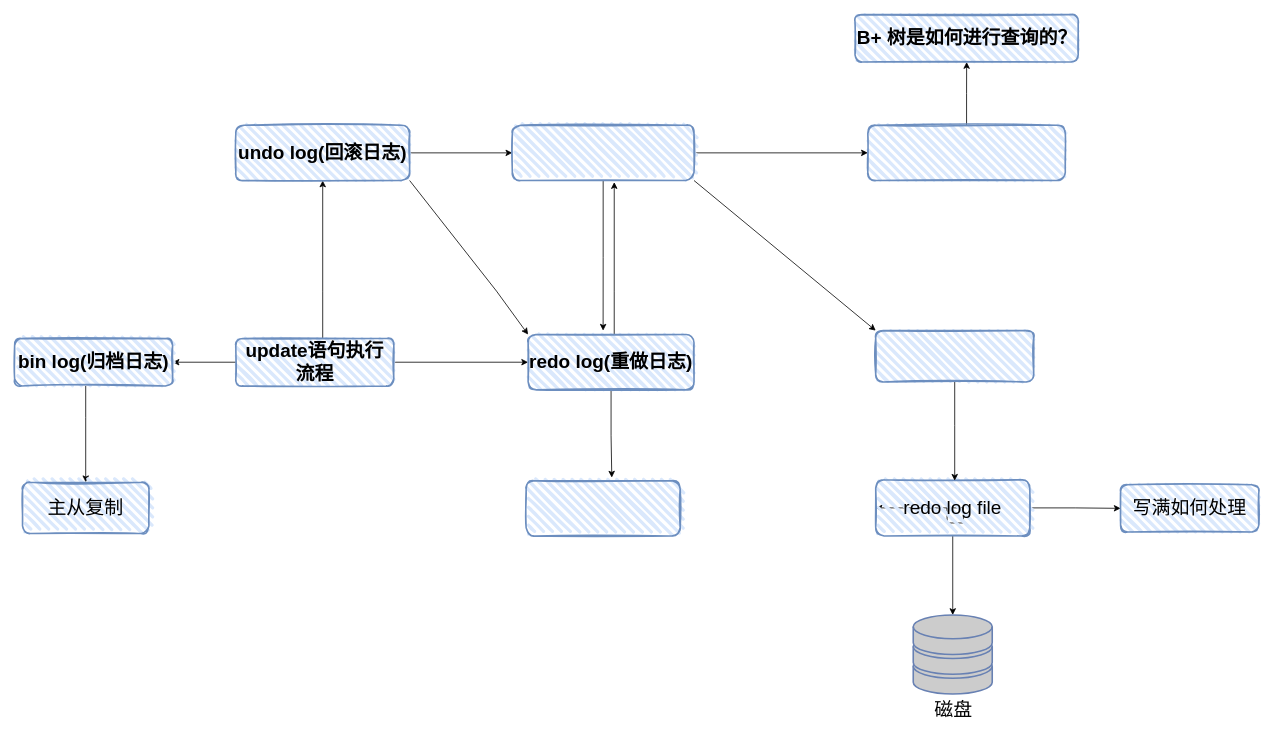
Some shapes in this 1273 by 739 pixel diagram are drawn without their labels. The shapes that lost their labels are listed below. From the top down, each one's box as (x1, y1, x2, y2) in pixels, then its label:
(511, 124, 694, 181): Buffer pool(缓冲池)
(867, 124, 1066, 181): InnoDB 是如何存储数据的？
(875, 329, 1034, 382): redo log buffer
(525, 480, 681, 536): undo log的区别
